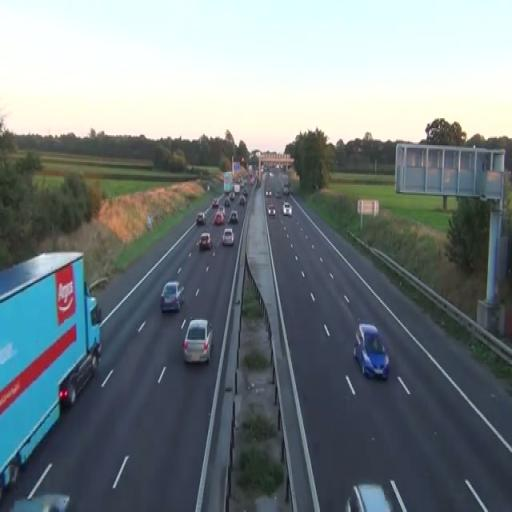Car: (352, 323, 390, 381), (182, 319, 213, 364), (160, 281, 184, 313), (198, 232, 212, 250), (222, 228, 234, 246), (212, 212, 226, 226), (228, 210, 238, 224), (196, 212, 206, 226), (282, 202, 292, 216)
Truck: (0, 251, 103, 499)
